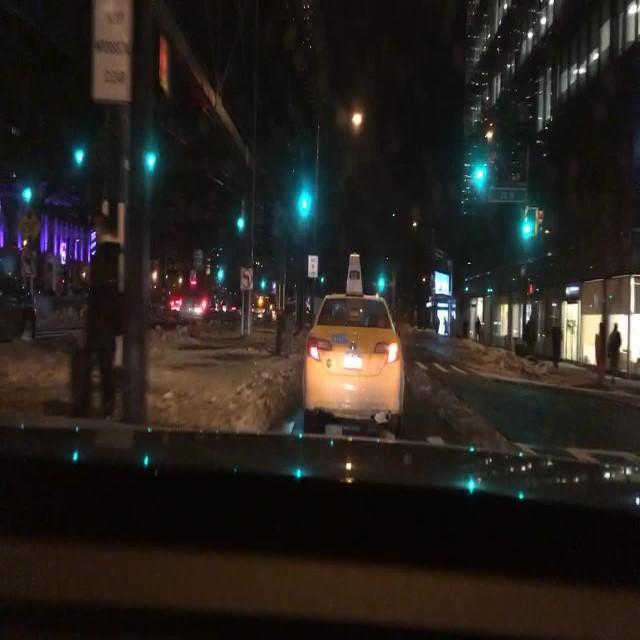normal: (304, 293, 404, 430)
